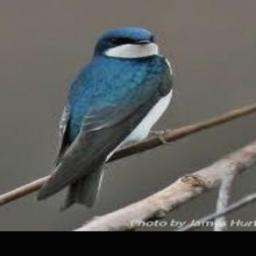Swallow: (34, 27, 175, 212)
